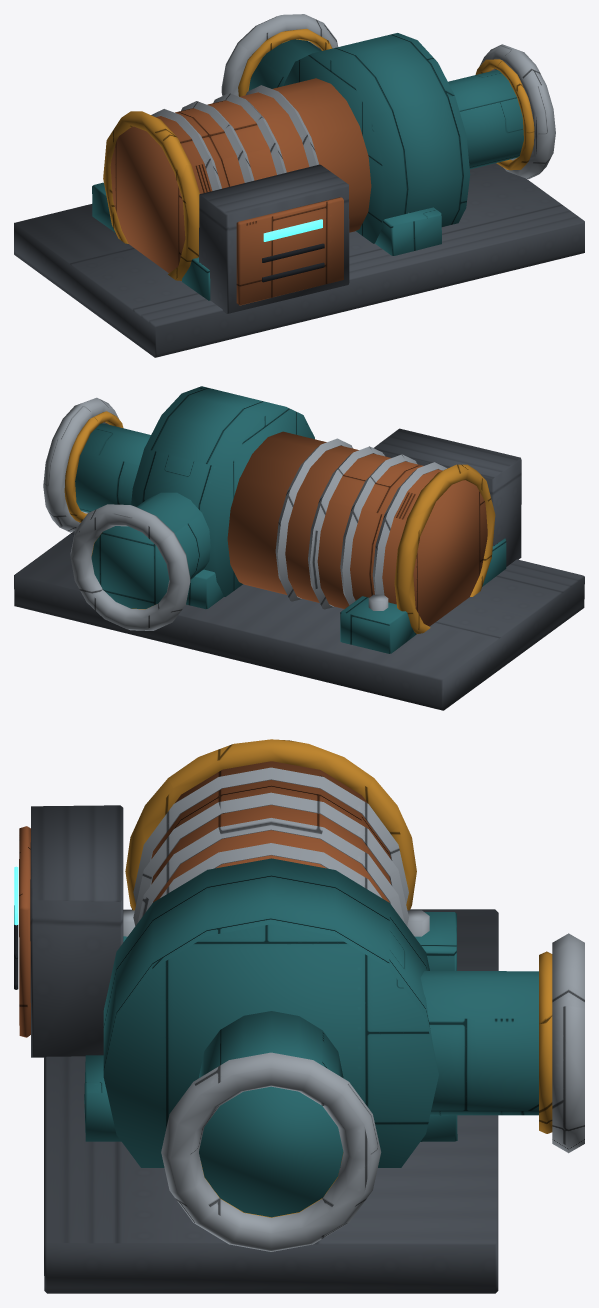
File: pump_skid_lod1.glb
The picture shows the model from 3 angles, top to bottom: view 1: azimuth 30°, elevation 25°; view 2: azimuth 150°, elevation 25°; view 3: azimuth 270°, elevation 25°; orthographic projection. The views are drawn at different scales.
Visible parts, largest first — view 1: LOD1_Mechanical, LOD1_Armor, LOD1_Hull, LOD1_BrushedMetal, LOD1_Livery, LOD1_MechanicalDark, LOD1_Lights_Cyan; view 2: LOD1_Mechanical, LOD1_Armor, LOD1_Hull, LOD1_BrushedMetal, LOD1_Livery; view 3: LOD1_Armor, LOD1_Mechanical, LOD1_BrushedMetal, LOD1_Hull, LOD1_Livery.
Boxes of the visible parts, left/top/right/bottom form: LOD1_Mechanical: left=14, top=163, right=584, bottom=357; LOD1_Armor: left=92, top=33, right=523, bottom=300; LOD1_Hull: left=110, top=78, right=371, bottom=305; LOD1_BrushedMetal: left=151, top=14, right=555, bottom=190; LOD1_Livery: left=103, top=28, right=534, bottom=280; LOD1_MechanicalDark: left=262, top=243, right=324, bottom=282; LOD1_Lights_Cyan: left=263, top=219, right=322, bottom=241; LOD1_Mechanical: left=14, top=428, right=584, bottom=710; LOD1_Armor: left=75, top=386, right=506, bottom=653; LOD1_Hull: left=227, top=431, right=487, bottom=626; LOD1_BrushedMetal: left=43, top=397, right=447, bottom=630; LOD1_Livery: left=64, top=411, right=495, bottom=634; LOD1_Armor: left=84, top=858, right=538, bottom=1217; LOD1_Mechanical: left=30, top=805, right=498, bottom=1293; LOD1_BrushedMetal: left=123, top=767, right=584, bottom=1251; LOD1_Hull: left=19, top=761, right=391, bottom=1037; LOD1_Livery: left=125, top=739, right=552, bottom=1217.
Size of the model in its own units: 4.07 by 1.69 by 2.88.
7 materials, 6 textured.
